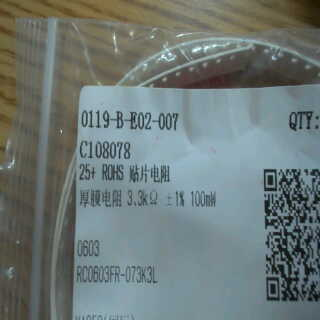3.3kO: (127, 182, 158, 217)
